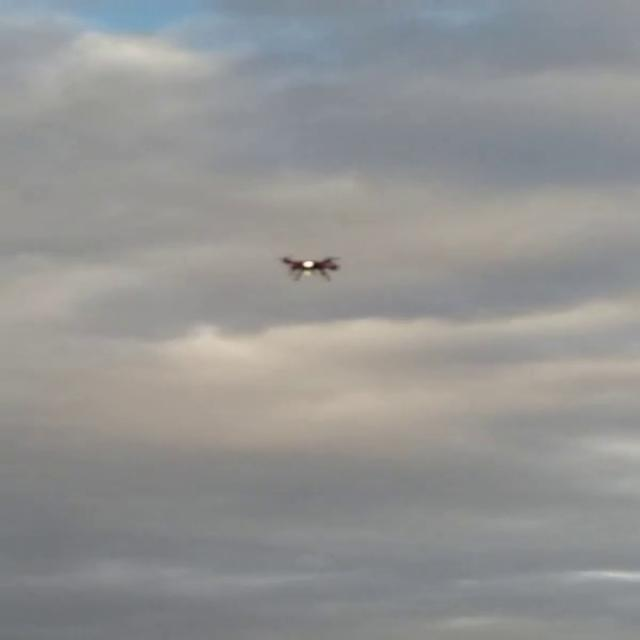drone: (272, 250, 353, 283)
